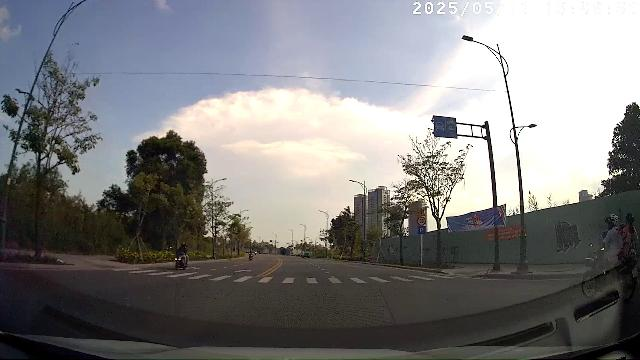127-toc-do-toi-da-50: (416, 216, 426, 226)
